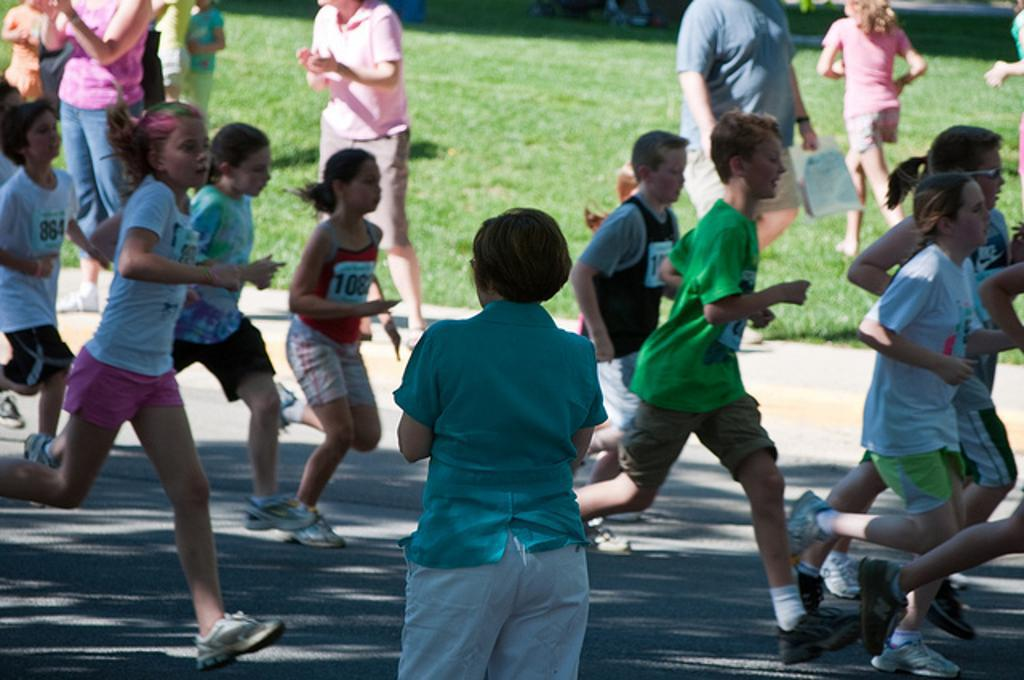face: (162, 122, 212, 188), (747, 132, 787, 201), (952, 182, 991, 249), (973, 141, 1007, 212), (469, 240, 503, 309), (233, 143, 274, 200), (344, 155, 383, 214), (653, 149, 688, 203), (30, 110, 62, 162), (6, 91, 27, 122), (843, 1, 864, 17)
